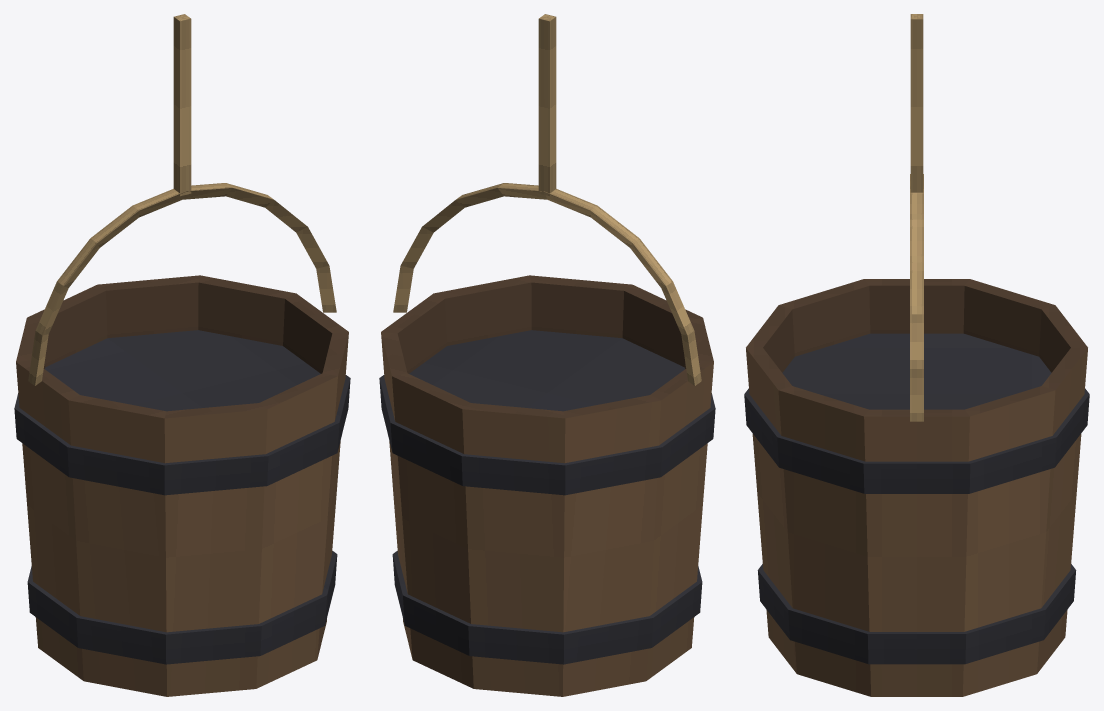
File: well-bucket.glb
3 renders of one model, left to right at view 1: azimuth 30°, elevation 25°; view 2: azimuth 150°, elevation 25°; view 3: azimuth 270°, elevation 25°, orthographic.
Parts seen in each view (by area): view 1: well-bucket.001; view 2: well-bucket.001; view 3: well-bucket.001.
Part boxes in pixels (x1,y1,x2,y2): well-bucket.001: (14,14,350,696); well-bucket.001: (379,14,715,696); well-bucket.001: (744,14,1089,696).
Size of the model in its own units: 0.307 by 0.6 by 0.3028.
1 material, 1 textured.
